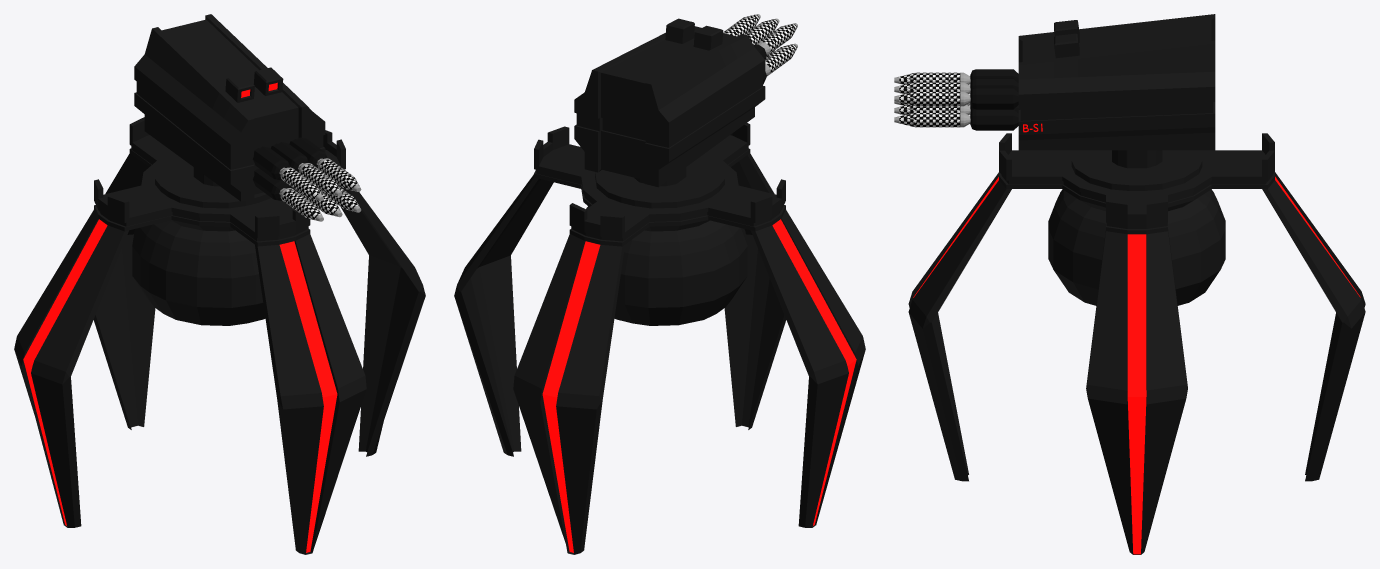
Rendered from bot_spider_1.glb.
The picture shows the model from 3 angles, left to right: view 1: azimuth 30°, elevation 25°; view 2: azimuth 150°, elevation 25°; view 3: azimuth 270°, elevation 25°; orthographic projection. The views are drawn at different scales.
Visible parts, largest first — view 1: Cylinder.296, Bot_Spider_1, Cylinder.302, Cylinder.301, Cylinder.300, Cylinder.299, Cylinder.305, Cylinder.297, Cube.106, Cylinder.307, Cylinder.309, Cube.108 (+4 smaller); view 2: Cylinder.296, Bot_Spider_1, Cylinder.299, Cylinder.301, Cylinder.300, Cylinder.302, Cylinder.303, Cylinder.297, Cylinder.307, Cylinder.309; view 3: Bot_Spider_1, Cylinder.296, Cylinder.300, Cylinder.299, Cylinder.302, Cylinder.304, Cube.111, Cube.112, Cylinder.346, Cylinder.348, Cylinder.311, Cylinder.307.
Part boxes in pixels (x1,y1,x2,y2): Cylinder.296: [94, 117, 345, 325]; Bot_Spider_1: [134, 14, 325, 201]; Cylinder.302: [255, 234, 366, 554]; Cylinder.301: [14, 209, 128, 527]; Cylinder.300: [337, 184, 425, 456]; Cylinder.299: [93, 153, 155, 429]; Cylinder.305: [279, 241, 337, 552]; Cylinder.297: [23, 219, 107, 525]; Cube.106: [253, 146, 289, 180]; Cylinder.307: [282, 168, 321, 199]; Cylinder.309: [282, 189, 321, 220]; Cube.108: [253, 168, 290, 200]; Cylinder.296: [534, 123, 785, 325]; Bot_Spider_1: [574, 18, 765, 187]; Cylinder.299: [513, 234, 624, 554]; Cylinder.301: [751, 209, 865, 527]; Cylinder.300: [454, 174, 553, 456]; Cylinder.302: [724, 153, 786, 429]; Cylinder.303: [542, 241, 600, 552]; Cylinder.297: [772, 219, 856, 525]; Cylinder.307: [759, 23, 796, 53]; Cylinder.309: [765, 44, 796, 74]; Bot_Spider_1: [1018, 14, 1215, 150]; Cylinder.296: [999, 133, 1274, 305]; Cylinder.300: [1086, 229, 1187, 554]; Cylinder.299: [1262, 172, 1365, 481]; Cylinder.302: [908, 172, 1011, 481]; Cylinder.304: [1127, 234, 1146, 554]; Cube.111: [970, 87, 1018, 109]; Cube.112: [970, 109, 1018, 130]; Cylinder.346: [899, 91, 960, 106]; Cylinder.348: [899, 112, 960, 127]; Cylinder.311: [899, 82, 960, 93]; Cylinder.307: [899, 72, 960, 84].
Bounding box in the file's own units: 9.22 × 10 × 9.5.
Materials: 5 (1 with a texture image).
